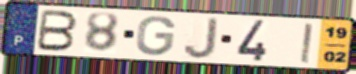4: (235, 19, 269, 63)
8: (82, 11, 122, 55)
B: (34, 8, 80, 53)
G: (134, 14, 178, 57)
I: (299, 22, 314, 65)
J: (182, 16, 220, 60)
